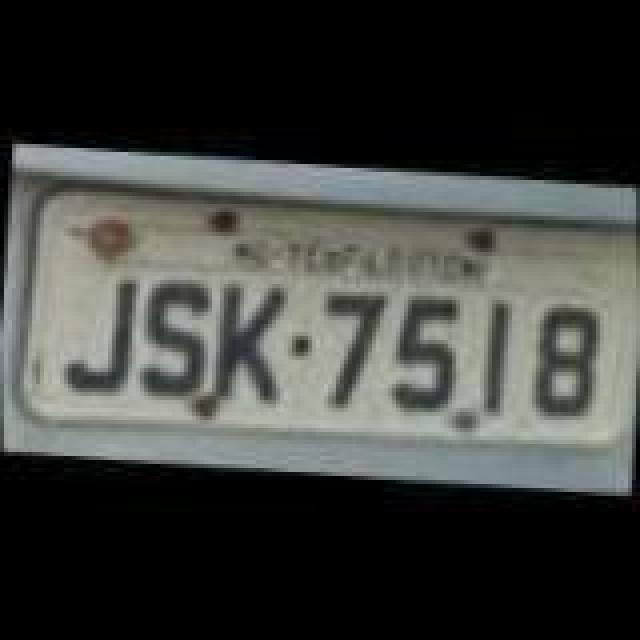1: (470, 294, 522, 418)
5: (386, 288, 470, 412)
7: (306, 288, 382, 408)
8: (524, 302, 604, 426)
J: (54, 266, 146, 398)
K: (202, 278, 294, 414)
S: (134, 278, 218, 398)
